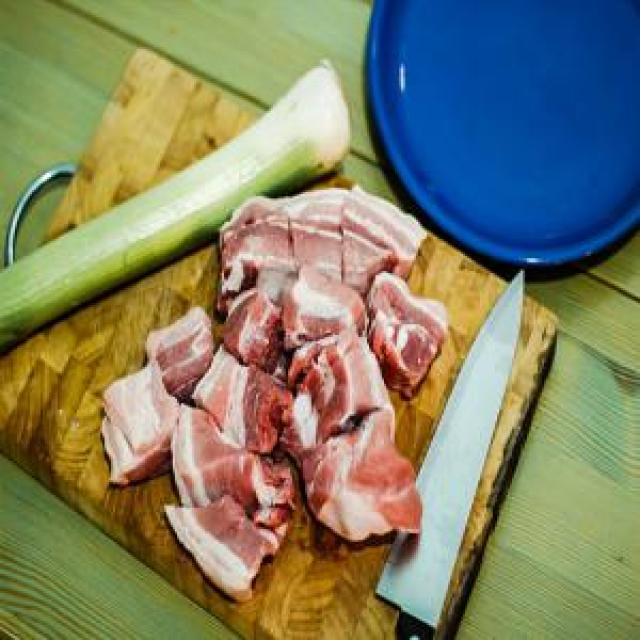knife: (373, 262, 527, 639)
